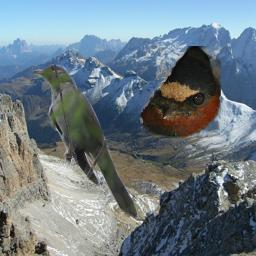Cuckoo: (33, 64, 143, 220)
Swallow: (140, 46, 221, 139)
